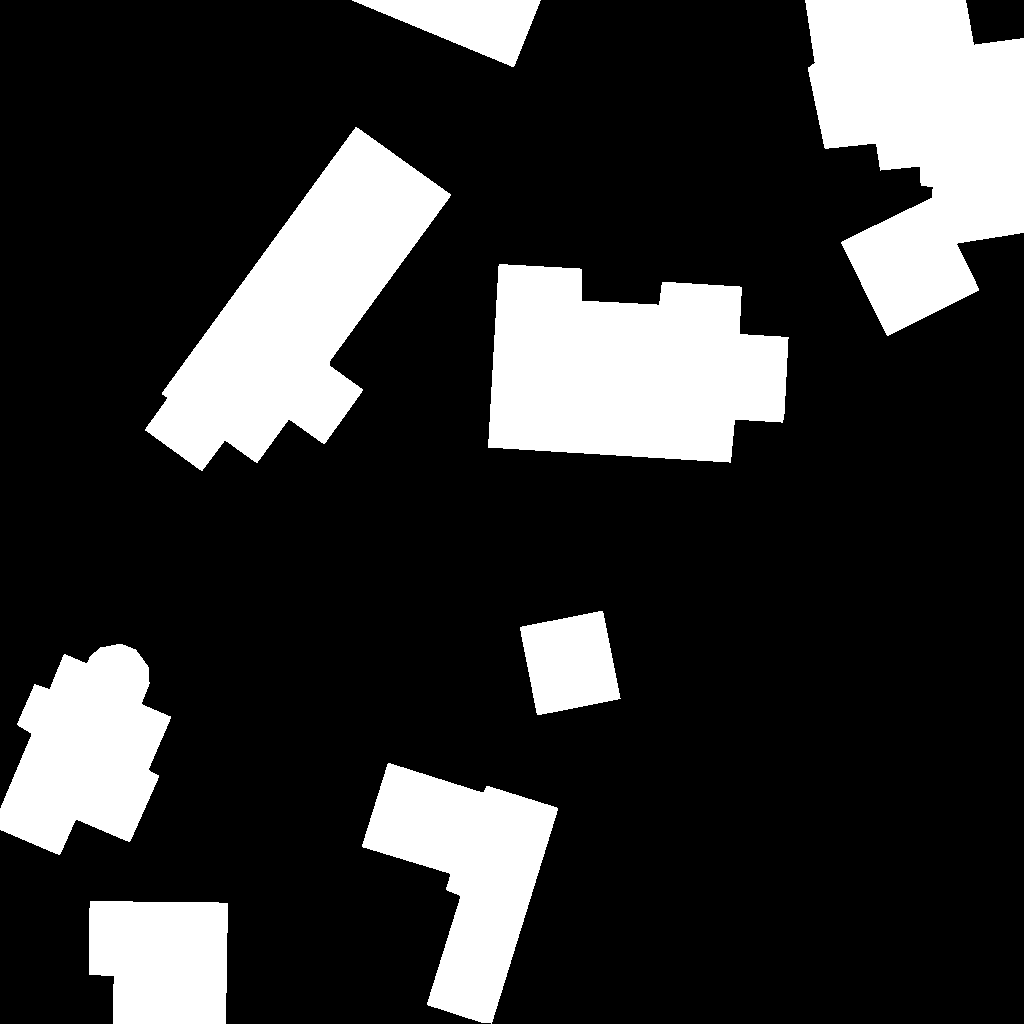building: (145, 127, 452, 472), (805, 0, 1024, 337), (488, 264, 789, 463), (362, 763, 559, 1024), (0, 644, 172, 856), (89, 901, 229, 1024), (351, 0, 542, 68), (520, 611, 621, 716)
